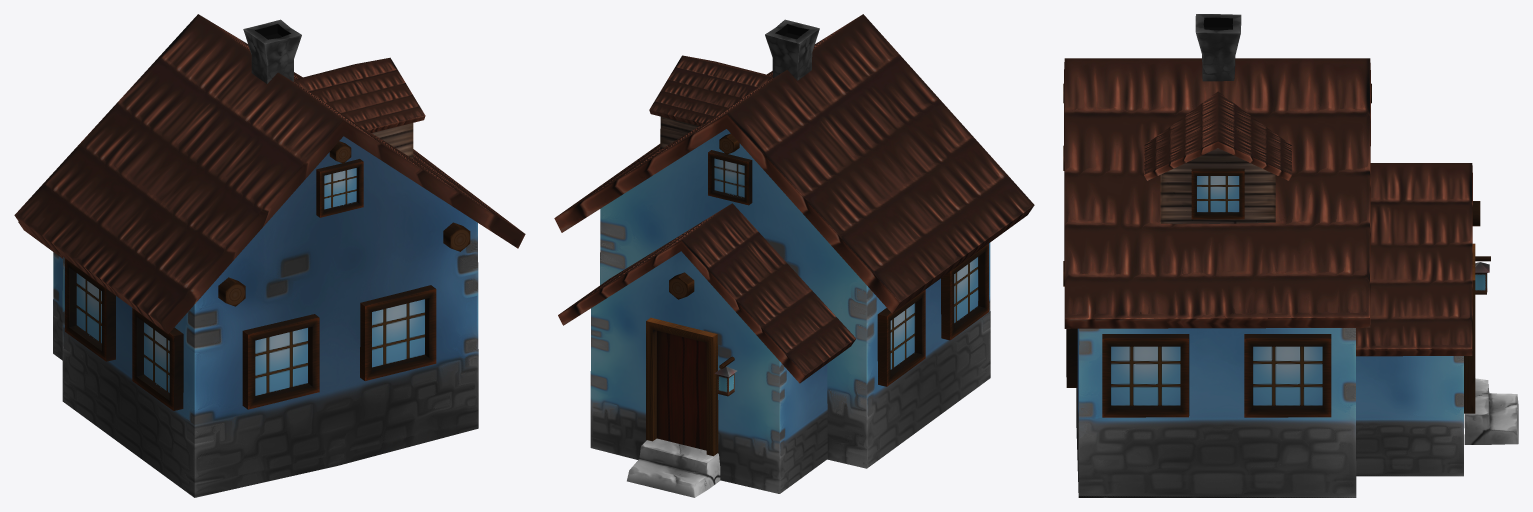
Rendered from cotage3.fbx.
The picture shows the model from 3 angles, left to right: view 1: azimuth 30°, elevation 25°; view 2: azimuth 150°, elevation 25°; view 3: azimuth 270°, elevation 25°; orthographic projection. The views are drawn at different scales.
Visible parts, largest first — view 1: walls_big_house, roof, WINDOW_6, WINDOW_5, roof_1, WINDOW, WINDOW_1, CHIMNEY, WINDOW_9, walls_big_house_1, WALLS, short_wood_6 (+1 smaller); view 2: roof, walls_big_house, walls_big_house_1, roof_2, DOOR, roof_1, stairs, WINDOW_1, WINDOW, CHIMNEY, WINDOW_10, WALLS (+1 smaller); view 3: roof, walls_big_house, roof_2, walls_big_house_1, WINDOW_2, WINDOW_3, roof_1, WALLS, stairs, WINDOW_4, CHIMNEY, DOOR (+1 smaller).
Part boxes in pixels (x1,y1,x2,y2): walls_big_house: (62,136,478,497); roof: (14,14,525,333); WINDOW_6: (242,314,319,409); WINDOW_5: (360,285,436,380); roof_1: (294,57,425,133); WINDOW: (132,308,183,410); WINDOW_1: (65,258,115,361); CHIMNEY: (243,19,301,83); WINDOW_9: (316,159,363,217); walls_big_house_1: (53,252,62,360); WALLS: (372,123,413,158); short_wood_6: (443,222,470,251); roof: (554,14,1034,313); walls_big_house: (600,129,990,468); walls_big_house_1: (590,251,827,493); roof_2: (558,203,856,383); DOOR: (646,317,718,456); roof_1: (649,55,772,126); stairs: (627,438,720,497); WINDOW_1: (877,290,925,386); WINDOW: (941,243,988,340); CHIMNEY: (765,19,819,80); WINDOW_10: (708,150,752,205); WALLS: (660,116,698,149); roof: (1064,58,1370,328); walls_big_house: (1076,328,1356,497); roof_2: (1356,163,1472,356); walls_big_house_1: (1356,356,1463,476); WINDOW_2: (1244,334,1331,417); WINDOW_3: (1102,334,1189,417); roof_1: (1144,91,1292,180); WALLS: (1160,148,1275,223); stairs: (1464,378,1518,444); WINDOW_4: (1191,168,1244,219); CHIMNEY: (1195,14,1241,81); DOOR: (1464,243,1475,413).
Bounding box in the file's own units: 635 × 633 × 646.
10 materials, 9 textured.
